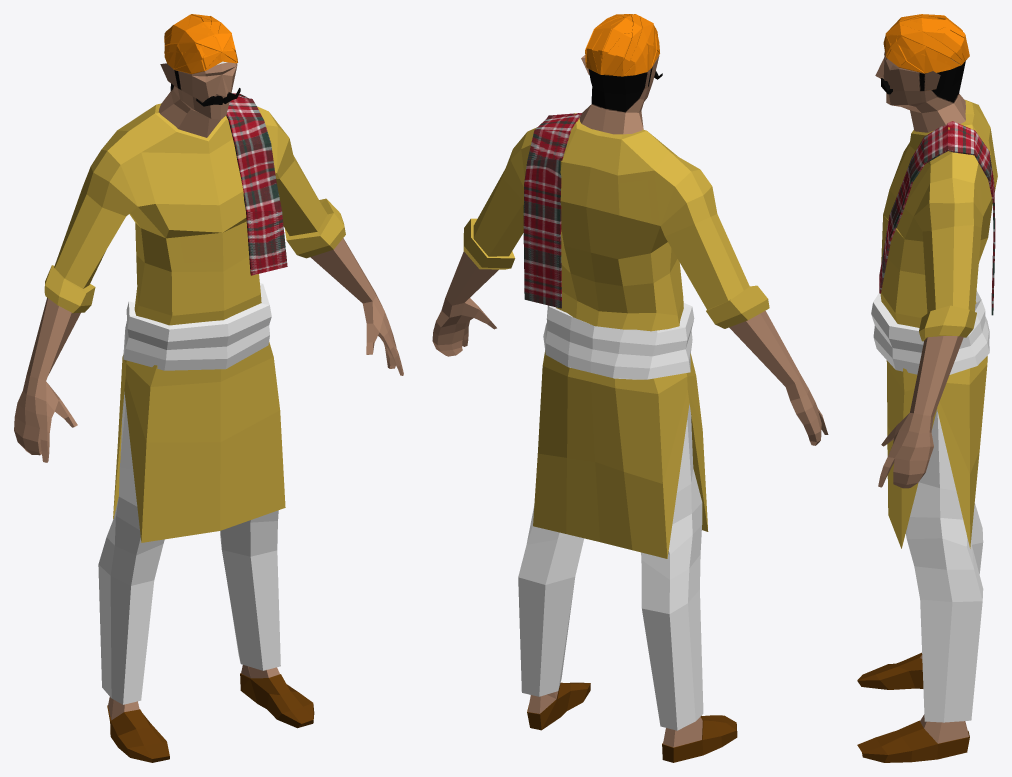
Rendered from aktivis.glb.
3 views of the same model, side by side, from view 1: azimuth 30°, elevation 25°; view 2: azimuth 150°, elevation 25°; view 3: azimuth 270°, elevation 25° (orthographic).
Parts seen in each view (by area): view 1: male.001, male.002; view 2: male.001, male.002; view 3: male.001, male.002.
Boxes of the visible parts, bbox=[...] form: male.001: bbox=[14, 14, 403, 762]; male.002: bbox=[226, 93, 287, 275]; male.001: bbox=[432, 14, 828, 762]; male.002: bbox=[523, 113, 581, 308]; male.001: bbox=[857, 14, 997, 762]; male.002: bbox=[879, 121, 995, 315].
Size of the model in its own units: 2.76 by 4.9 by 0.8921.
2 materials, 2 textured.
